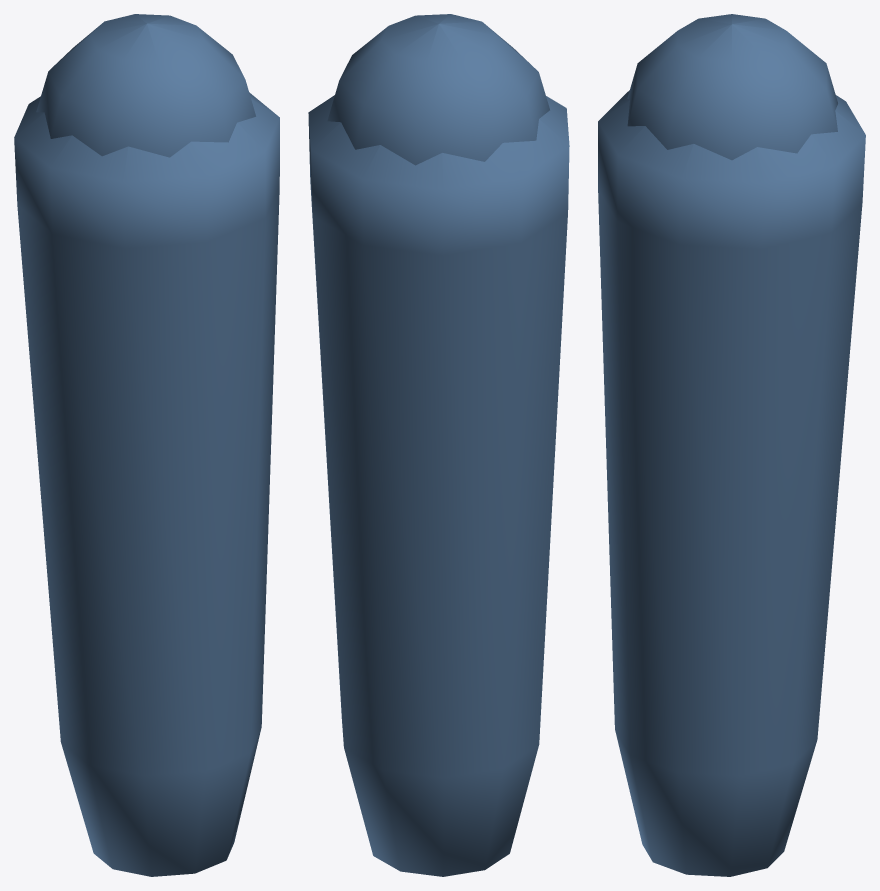
The model's file is thigh_L.obj.
The picture shows the model from 3 angles, left to right: view 1: azimuth 30°, elevation 25°; view 2: azimuth 150°, elevation 25°; view 3: azimuth 270°, elevation 25°; orthographic projection.
Parts seen in each view (by area): view 1: thigh_L; view 2: thigh_L; view 3: thigh_L.
Boxes of the visible parts, left/top/right/bottom form: thigh_L: left=14, top=14, right=279, bottom=876; thigh_L: left=308, top=14, right=569, bottom=876; thigh_L: left=598, top=14, right=865, bottom=876.
Bounding box in the file's own units: 0.1421 × 0.5044 × 0.1461.
